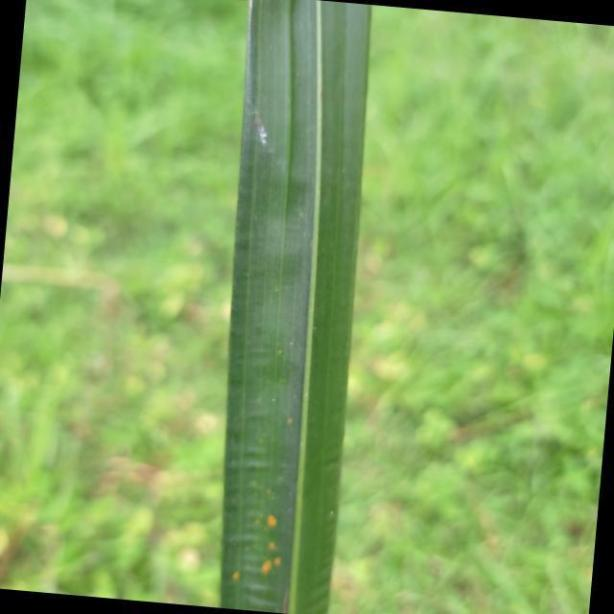Boron: (222, 3, 375, 614)
